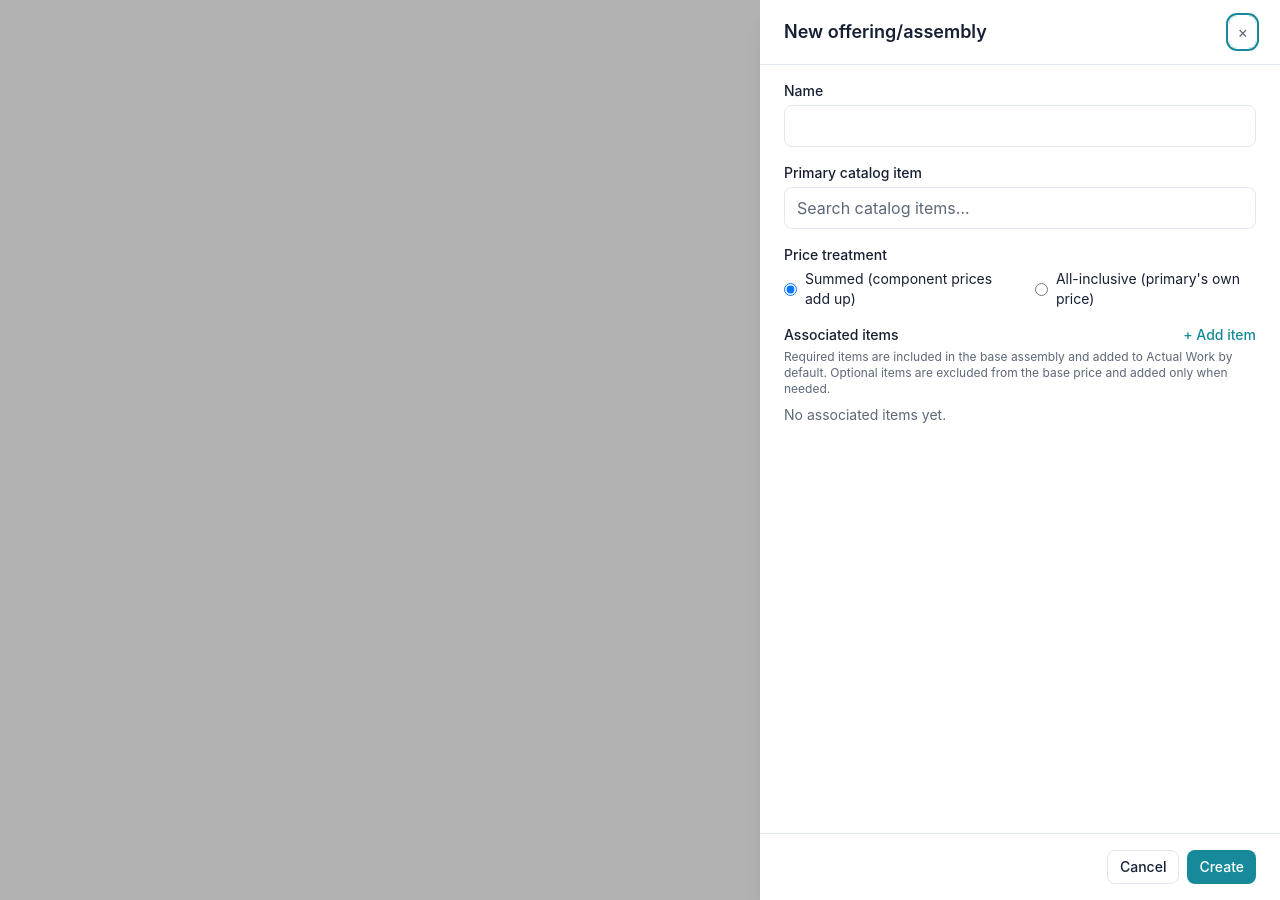
Scenario: OfferingAssemblyDrawer › explains Required vs Optional items and labels the Optional checkbox with its effect
Expected: the text "Required items are included in the base assembly and added to Actual Work by default. Optional items are excluded from t" is shown, [784,349,1232,396]
Click the button "+ Add item": coordinates (1220, 335) [1183,325,1256,345]
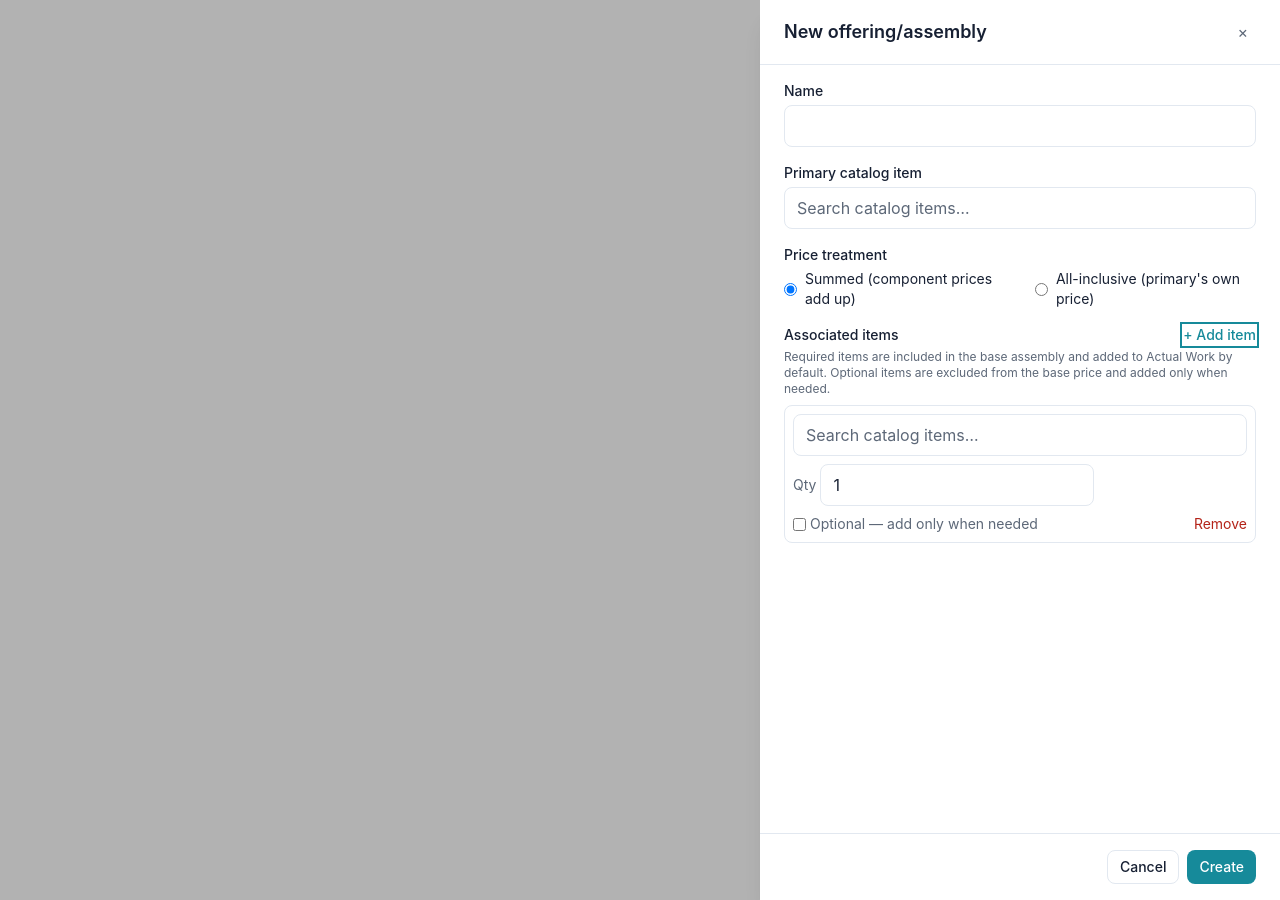
Result: the checkbox labelled "Optional — add only when needed" is shown at [793,518,806,530]
